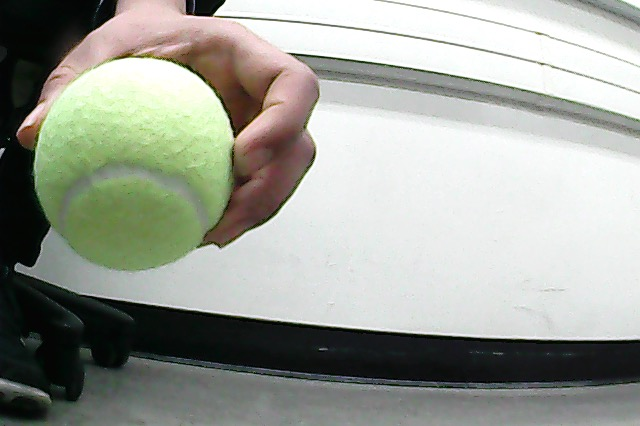ball: (30, 54, 246, 278)
